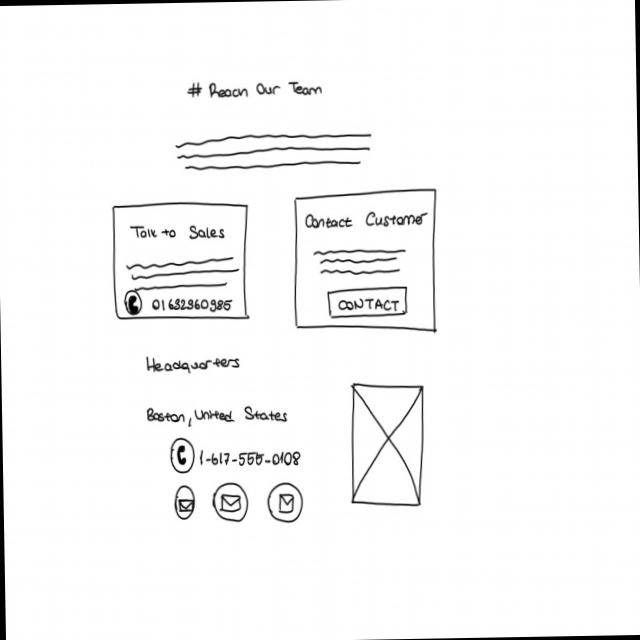button: (326, 284, 408, 320)
container: (292, 185, 439, 334), (111, 198, 251, 322)
icon-button: (266, 480, 303, 522), (212, 480, 248, 523), (168, 436, 196, 474), (173, 484, 196, 520), (123, 288, 142, 316)
image: (348, 382, 426, 508)
label: (143, 400, 290, 430), (183, 77, 324, 101), (304, 209, 430, 230), (198, 446, 302, 468), (144, 352, 241, 374), (128, 222, 226, 242), (150, 294, 234, 314)
text: (174, 130, 372, 172), (125, 254, 240, 292), (312, 246, 407, 276)
